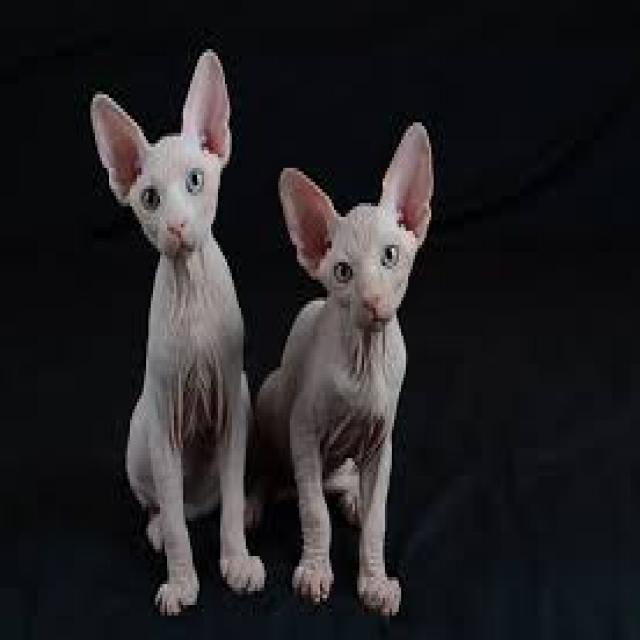cat: (288, 97, 446, 604), (112, 69, 264, 572)
